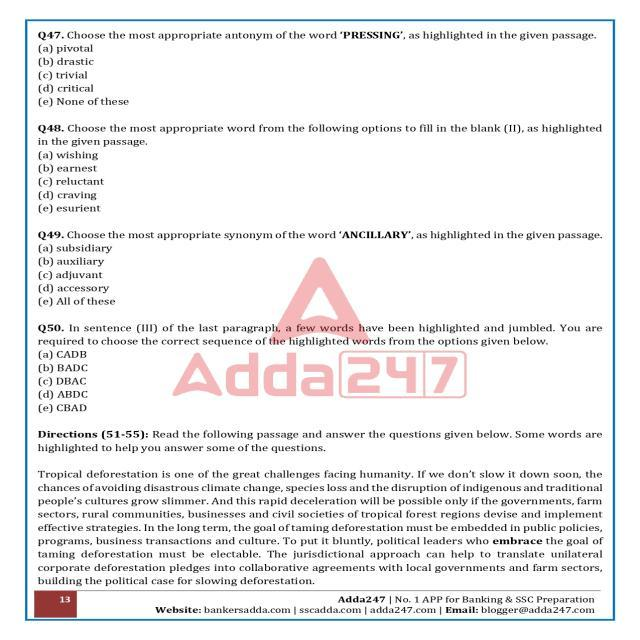Answer_Block: (21, 244, 614, 311), (26, 45, 612, 112), (24, 348, 614, 414), (24, 146, 612, 210)
Instruction: (24, 414, 614, 590)
Question_Answer_Block: (26, 321, 612, 412), (29, 124, 616, 212), (27, 27, 612, 112), (24, 227, 612, 309)
Question_Block: (20, 121, 612, 150), (26, 319, 610, 346), (34, 24, 610, 44), (26, 228, 612, 244)
Question_Paper_Area: (24, 26, 612, 588)
